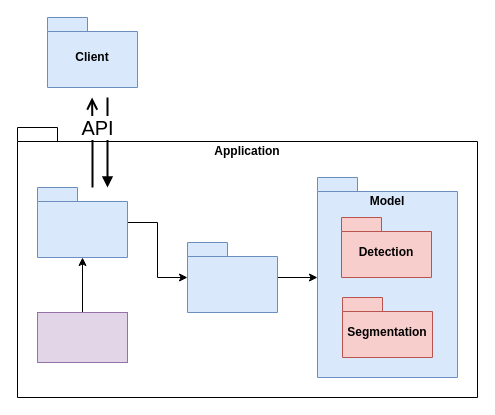
The diagram is 495 pixels wide and 415 high, and some of its shapes have lost their labels. The centre of each missing label's shape, as x and y in pixels:
"Controller" goes at pixel 82 222.
"main.py" goes at pixel 82 337.
"Service" goes at pixel 232 277.
